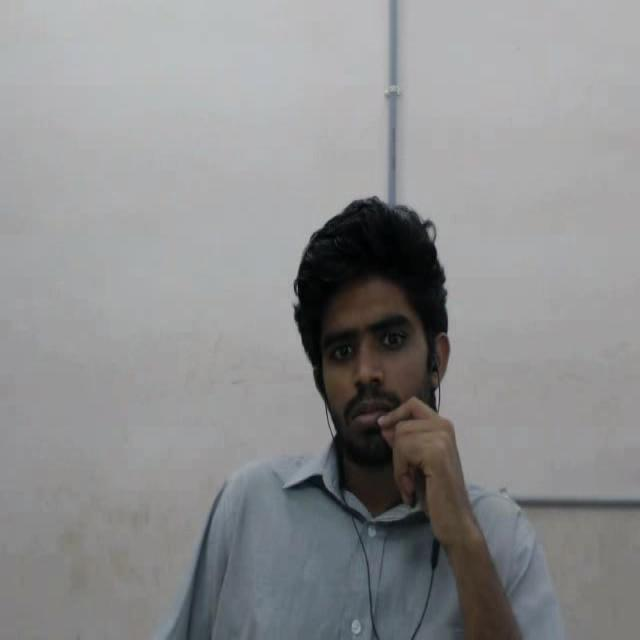Bored: (269, 172, 498, 512)
